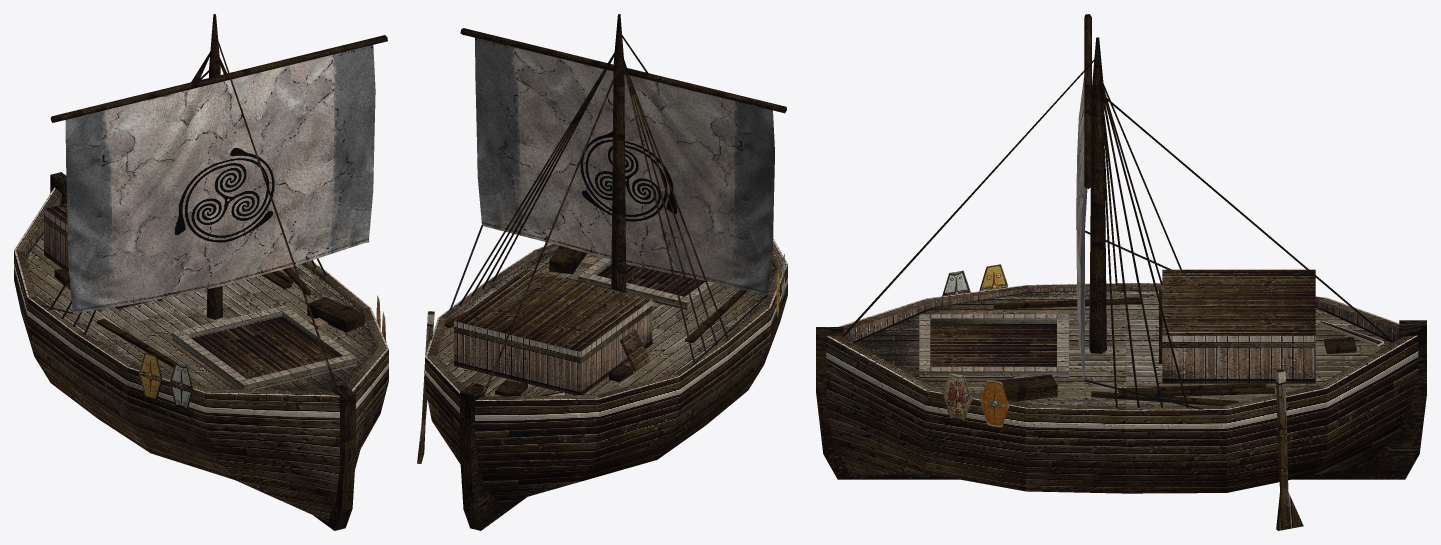
Rendered from ship-sloop-53.glb.
3 views of the same model, side by side, from view 1: azimuth 30°, elevation 25°; view 2: azimuth 150°, elevation 25°; view 3: azimuth 270°, elevation 25° (orthographic). The views are drawn at different scales.
Visible parts, largest first — view 1: Celtic timber hull, Sail woven Celtic canvas; view 2: Celtic timber hull, Sail woven Celtic canvas; view 3: Celtic timber hull, Sail woven Celtic canvas.
Boxes of the visible parts, x1,y1,x2,y2 form: Celtic timber hull: [14, 14, 388, 530]; Sail woven Celtic canvas: [40, 45, 386, 409]; Celtic timber hull: [417, 14, 787, 530]; Sail woven Celtic canvas: [449, 38, 785, 368]; Celtic timber hull: [816, 14, 1426, 530]; Sail woven Celtic canvas: [942, 77, 1203, 427].
Size of the model in its own units: 14.67 by 17.79 by 22.44.
Materials: 2 (2 with a texture image).
